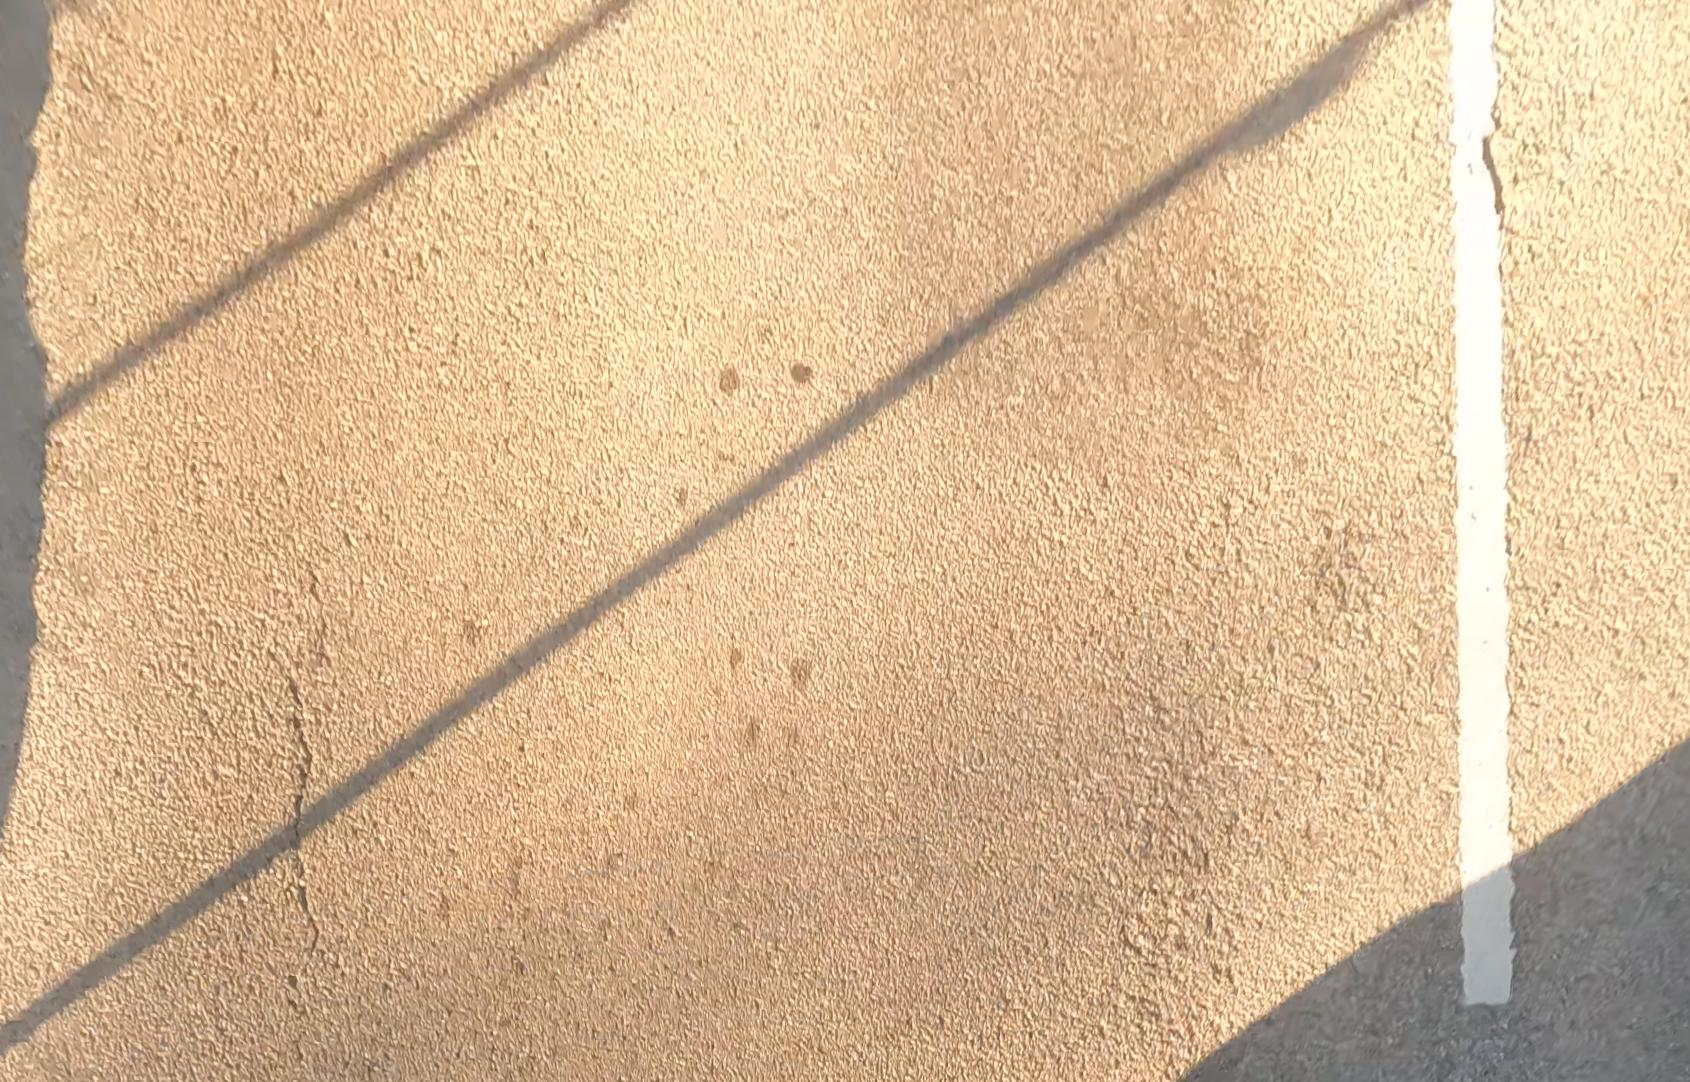pothole: (1483, 99, 1513, 228)
